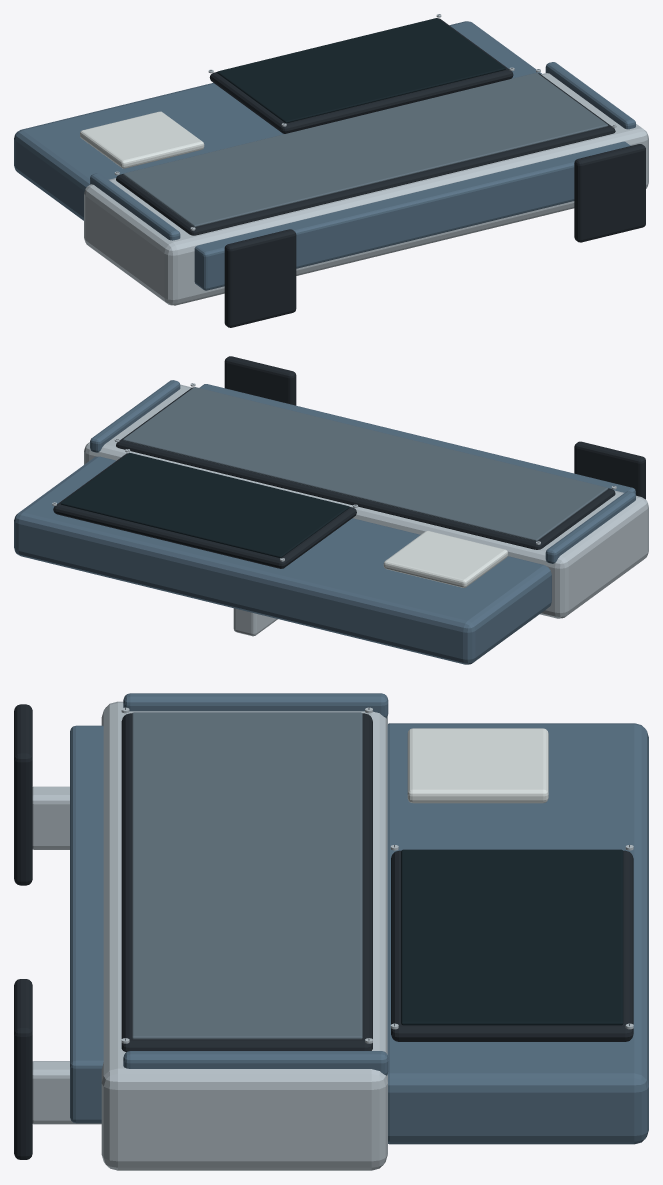
The model's file is vision.glb.
3 renders of one model, top to bottom at view 1: azimuth 30°, elevation 25°; view 2: azimuth 150°, elevation 25°; view 3: azimuth 270°, elevation 25°, orthographic. The views are drawn at different scales.
Visible parts, largest first — view 1: deck live content surface.011, Precision bench.002, Lower service fascia.001, screen live content surface.011, Monitor enclosure.002, Rubber machine foot.018, Rubber machine foot.019, deck mounting bezel.011, Equipment identity plate.011, screen mounting bezel.011, Bench side guard.004, Bench side guard.005; view 2: Monitor enclosure.002, deck live content surface.011, screen live content surface.011, Precision bench.002, deck mounting bezel.011, Equipment identity plate.011, screen mounting bezel.011, Lower service fascia.001, Rubber machine foot.018, Rubber machine foot.019, Bench side guard.004, Bench side guard.005 (+1 smaller); view 3: deck live content surface.011, Monitor enclosure.002, Precision bench.002, screen live content surface.011, Lower service fascia.001, Equipment identity plate.011, deck mounting bezel.011, screen mounting bezel.011, Bench side guard.004, Bench side guard.005, Rubber machine foot.018, Rubber machine foot.019 (+2 smaller).
Boxes of the visible parts, <box> form: deck live content surface.011: <box>123,72,608,227</box>; Precision bench.002: <box>84,73,648,305</box>; Lower service fascia.001: <box>194,141,630,290</box>; screen live content surface.011: <box>217,18,505,123</box>; Monitor enclosure.002: <box>14,21,541,220</box>; Rubber machine foot.018: <box>224,229,296,327</box>; Rubber machine foot.019: <box>574,144,645,242</box>; deck mounting bezel.011: <box>116,73,615,235</box>; Equipment identity plate.011: <box>80,111,204,168</box>; screen mounting bezel.011: <box>209,18,513,133</box>; Bench side guard.004: <box>90,173,180,240</box>; Bench side guard.005: <box>545,62,635,129</box>; Monitor enclosure.002: <box>14,456,551,664</box>; deck live content surface.011: <box>123,387,608,541</box>; screen live content surface.011: <box>60,452,349,557</box>; Precision bench.002: <box>84,384,648,618</box>; deck mounting bezel.011: <box>116,387,615,549</box>; Equipment identity plate.011: <box>383,530,507,587</box>; screen mounting bezel.011: <box>53,453,356,568</box>; Lower service fascia.001: <box>199,384,635,494</box>; Rubber machine foot.018: <box>574,441,645,499</box>; Rubber machine foot.019: <box>224,356,296,405</box>; Bench side guard.004: <box>545,491,635,563</box>; Bench side guard.005: <box>90,380,180,452</box>; deck live content surface.011: <box>132,712,362,1039</box>; Monitor enclosure.002: <box>387,723,648,1144</box>; Precision bench.002: <box>101,701,387,1170</box>; screen live content surface.011: <box>401,849,623,1025</box>; Lower service fascia.001: <box>70,725,103,1123</box>; Equipment identity plate.011: <box>407,728,548,803</box>; deck mounting bezel.011: <box>121,713,372,1051</box>; screen mounting bezel.011: <box>391,850,633,1041</box>; Bench side guard.004: <box>123,693,388,718</box>; Bench side guard.005: <box>123,1051,388,1075</box>; Rubber machine foot.018: <box>14,704,32,885</box>; Rubber machine foot.019: <box>14,979,32,1159</box>.
Bounding box in the file's own units: 10.5 × 1.83 × 7.43.
